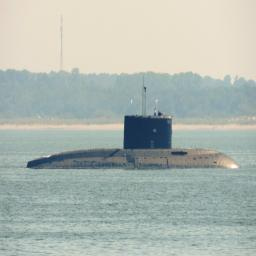submarine: (27, 114, 240, 169)
